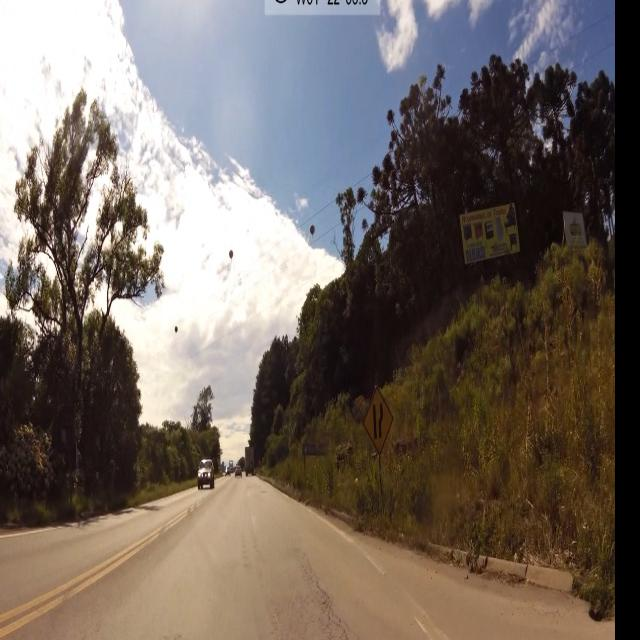A-21e: (361, 387, 395, 457)
